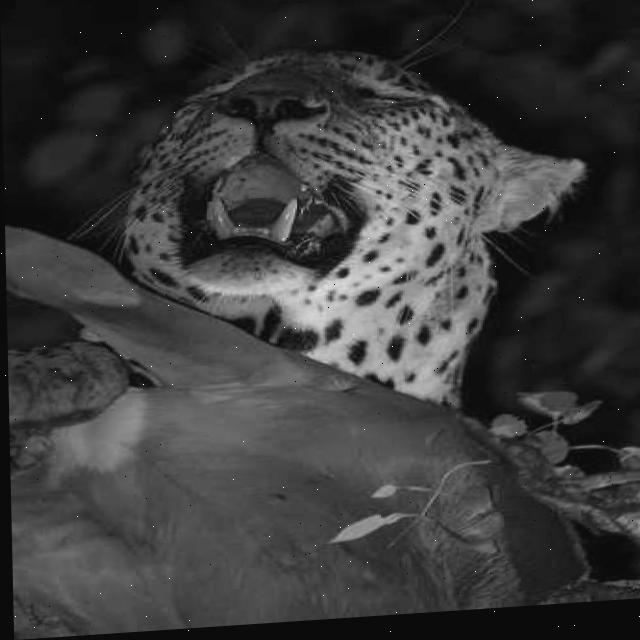Leopard: (132, 32, 527, 395)
